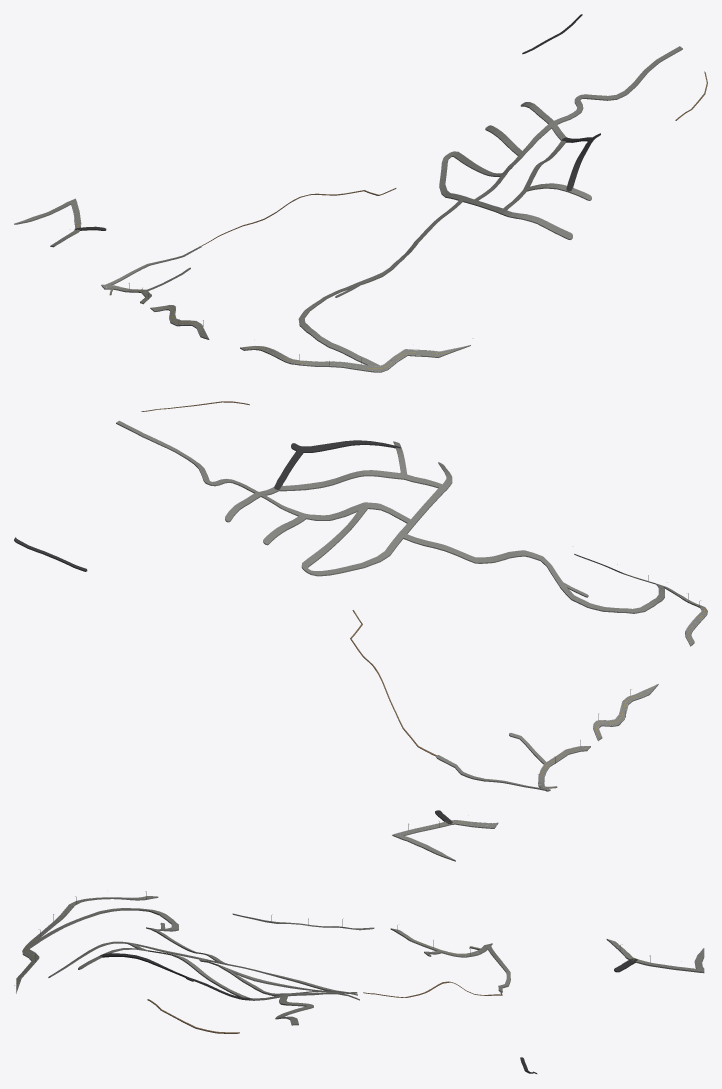
The model's file is 16-54723-29732.98bddc7f.glb.
The picture shows the model from 3 angles, top to bottom: view 1: azimuth 30°, elevation 25°; view 2: azimuth 150°, elevation 25°; view 3: azimuth 270°, elevation 25°; orthographic projection. The views are drawn at different scales.
Size of the model in its own units: 589 by 203 by 588.
